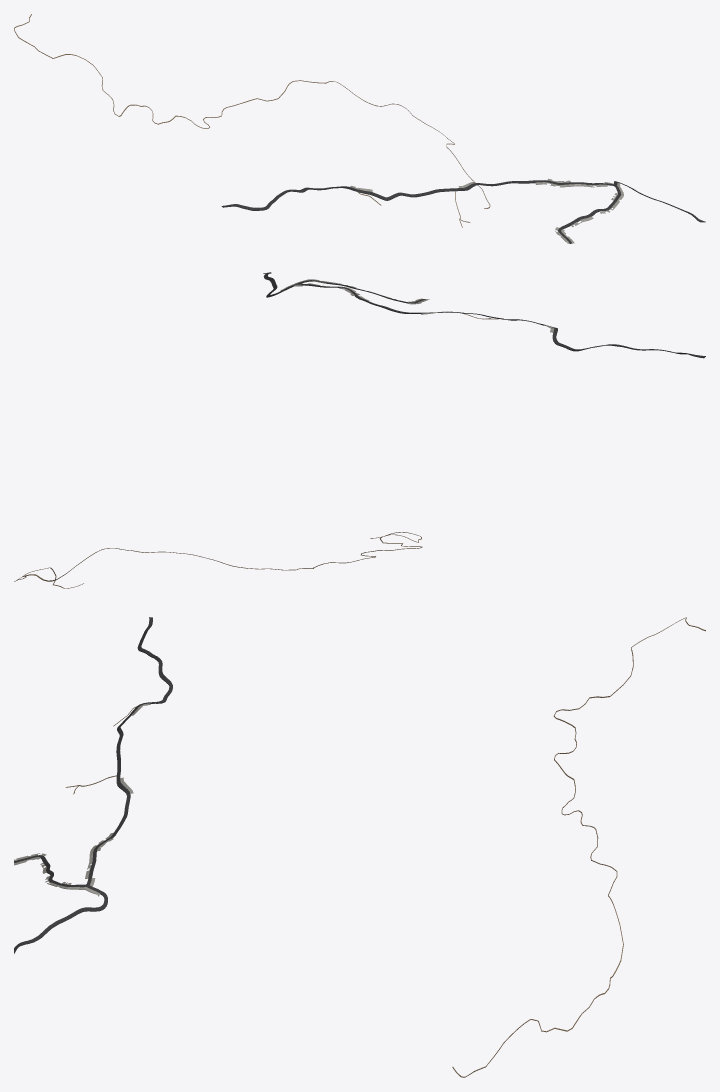
Rendered from 15-27369-14861.7fab9762.glb.
3 renders of one model, top to bottom at view 1: azimuth 30°, elevation 25°; view 2: azimuth 150°, elevation 25°; view 3: azimuth 270°, elevation 25°, orthographic. The views are drawn at different scales.
Bounding box in the file's own units: 980 × 450 × 1166.
